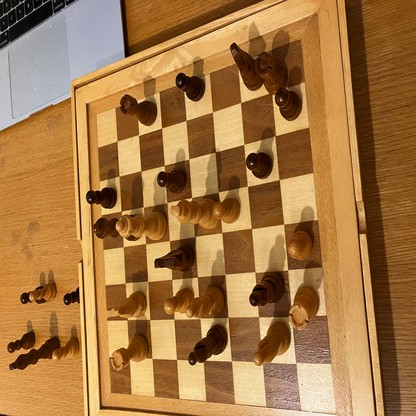bishop_black: (189, 325, 228, 364), (250, 274, 285, 304)
bishop_white: (254, 322, 291, 367), (187, 286, 224, 316)
king_black: (9, 337, 60, 371)
king_white: (171, 199, 219, 229)
knight_black: (230, 43, 262, 89), (155, 243, 195, 271)
knight_white: (106, 292, 147, 317)
pawn_black: (275, 89, 303, 119), (176, 73, 206, 100), (157, 170, 186, 192), (247, 154, 272, 178), (8, 331, 35, 353), (86, 189, 117, 208)
pawn_white: (164, 288, 193, 313), (288, 230, 312, 260), (213, 198, 240, 222), (53, 337, 79, 360), (29, 283, 56, 302)
queen_white: (116, 212, 166, 240)
rock_black: (255, 53, 288, 93), (120, 95, 157, 126)
rock_white: (288, 287, 320, 330), (112, 335, 148, 371)
